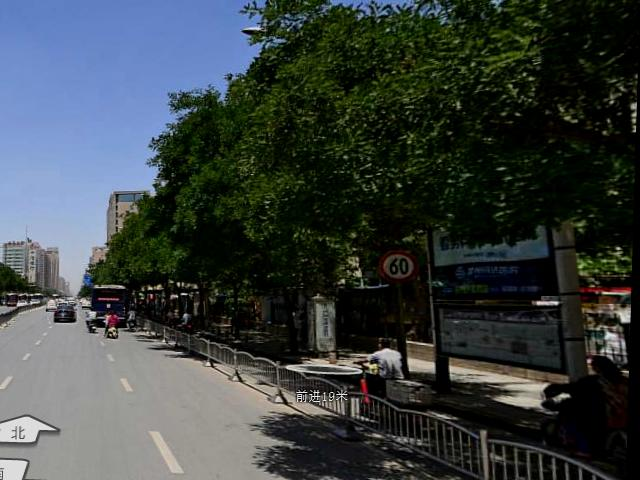limit60: (379, 246, 420, 286)
